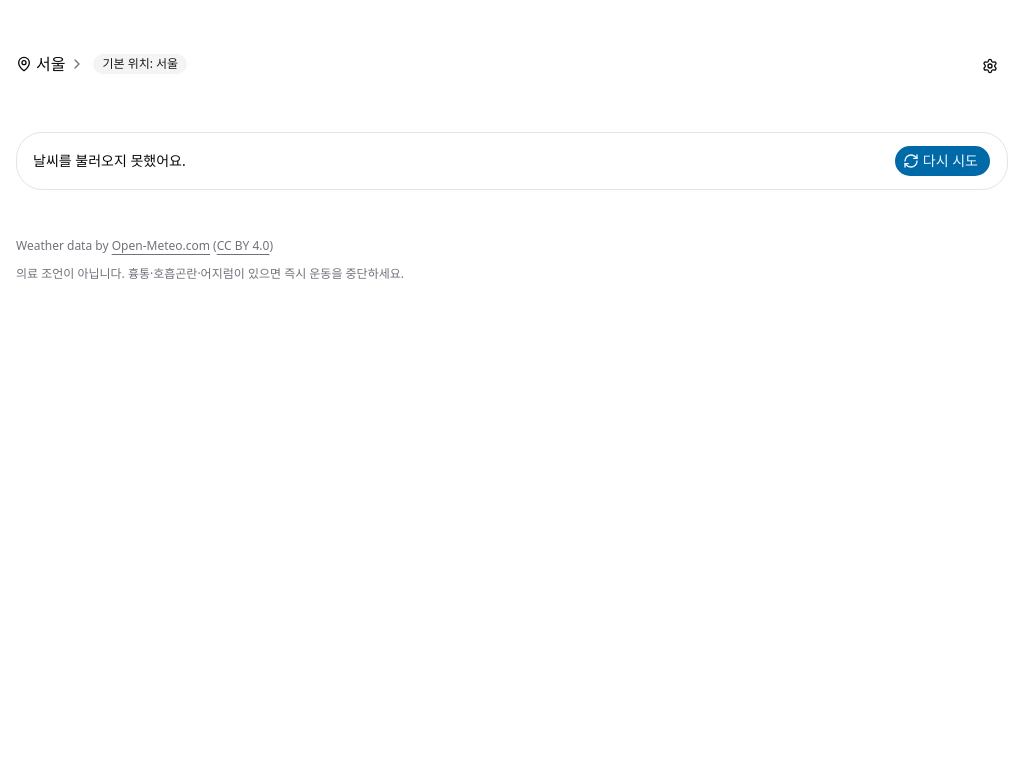
Test: HomeScreen: 불러오는 중·실패 › 실패했고 직전 데이터가 없으면 오류를 알리고, 다시 시도하면 조회한다
The image size is (1024, 763).
Expected: the message shows "날씨를 불러오지 못했어요.", [33,151,186,170]
Expected: the text "러닝 복장" is not shown
Click the button "다시 시도". click: (942, 161)
box: [894,145,991,177]
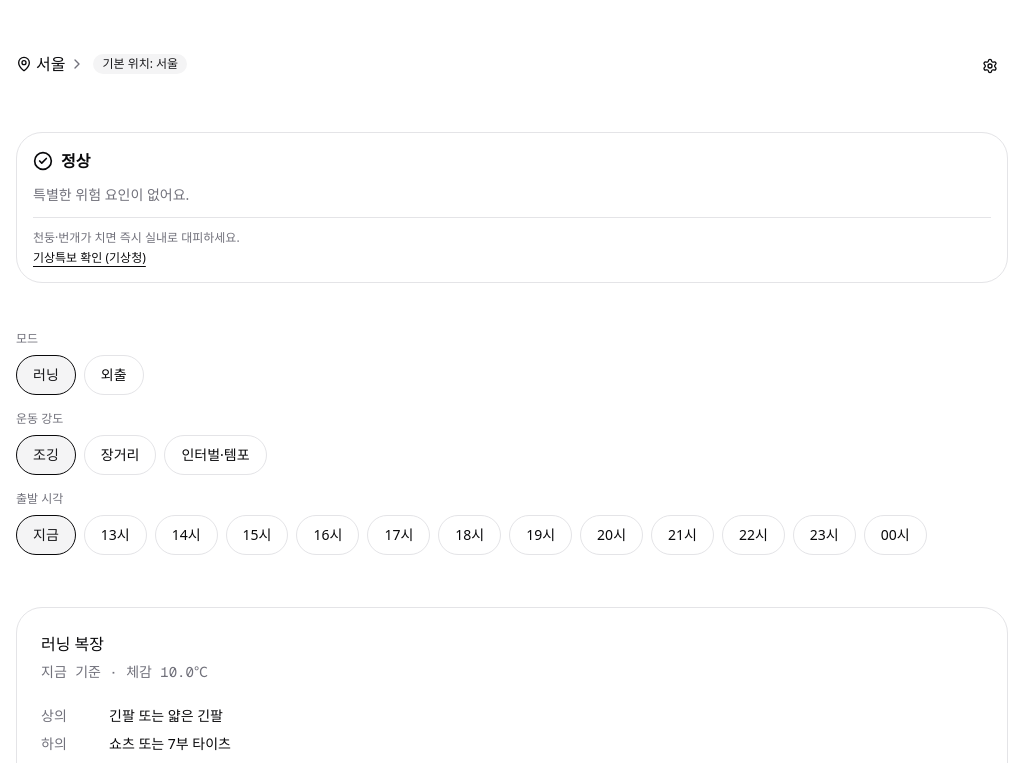
Result: the text "러닝 복장" is shown at [41,633,104,655]
